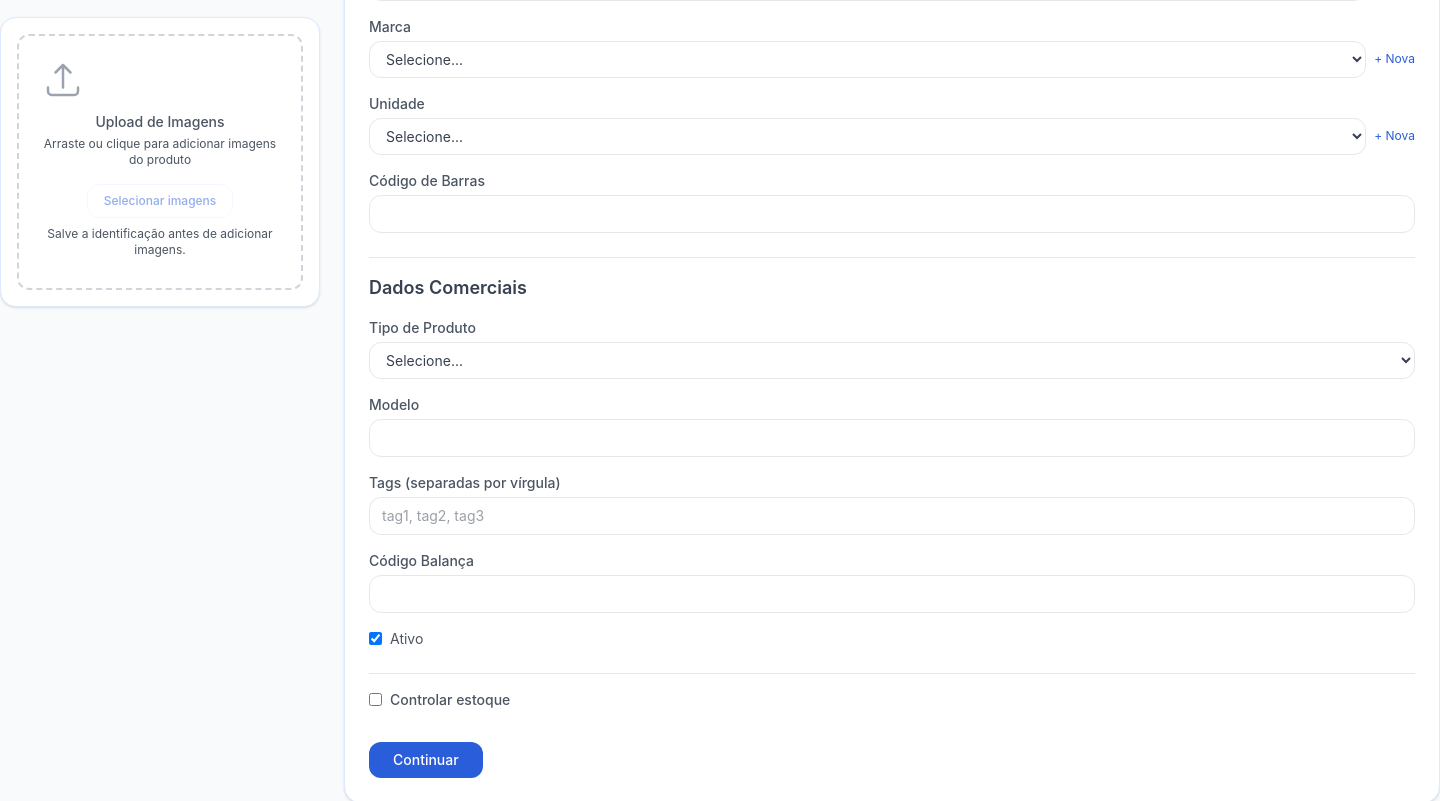
it: ProductsPage › shows validation error for empty product name
(page scrolled)
Click the button "Continuar".
click(426, 760)  # box left=369, top=742, right=483, bottom=778
(page scrolled)
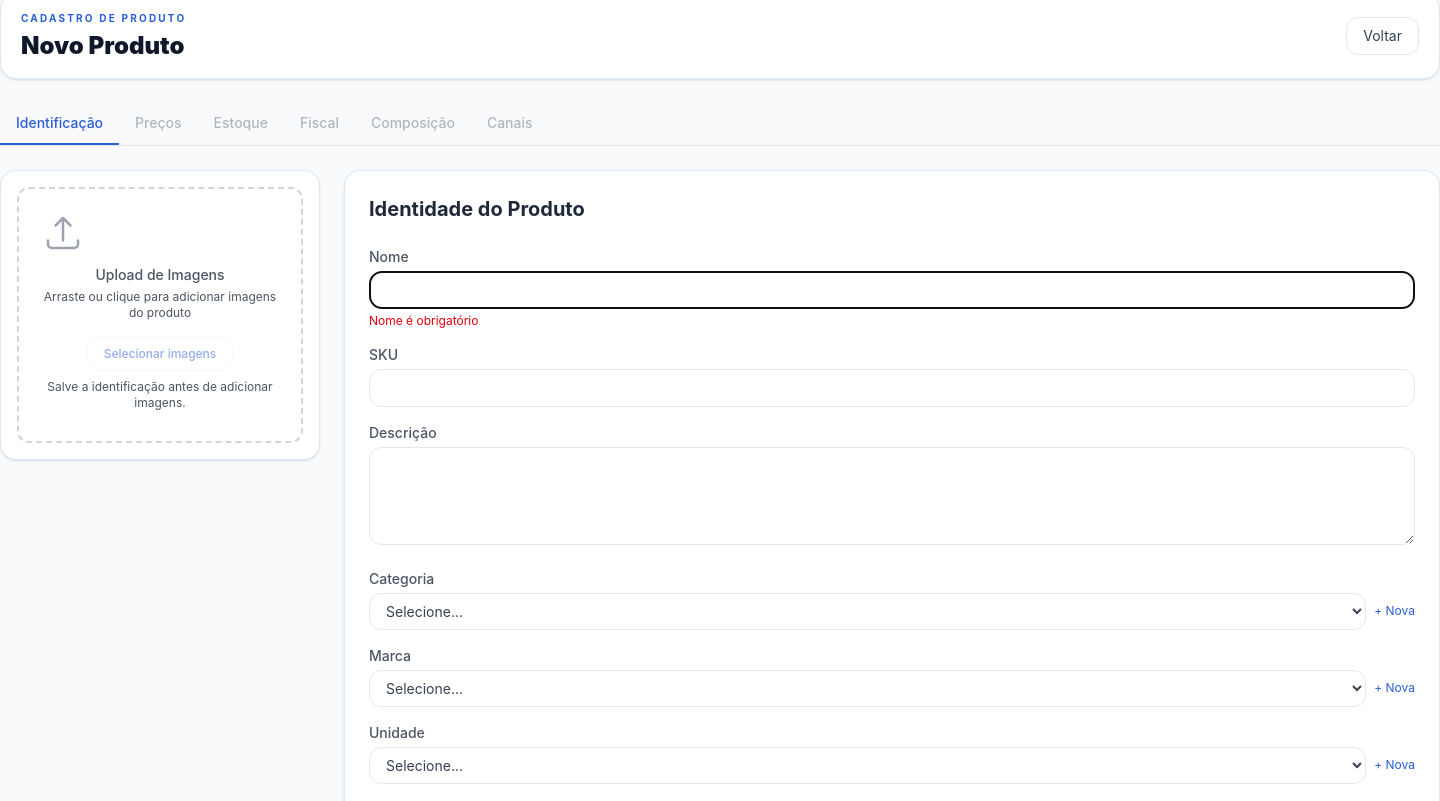
Now the text "Nome é obrigatório" is shown, box left=369, top=313, right=478, bottom=328
